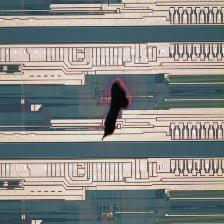PARTICLE: (99, 80, 132, 145)
